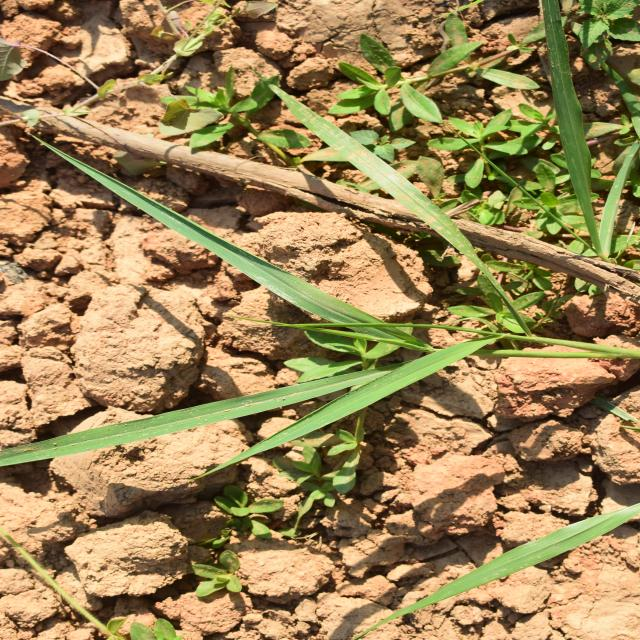green_foxtail: (151, 32, 486, 535)
